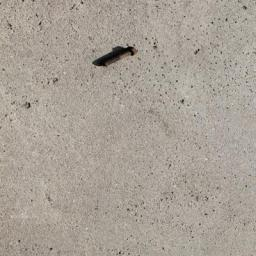FOD: (92, 45, 141, 71)
